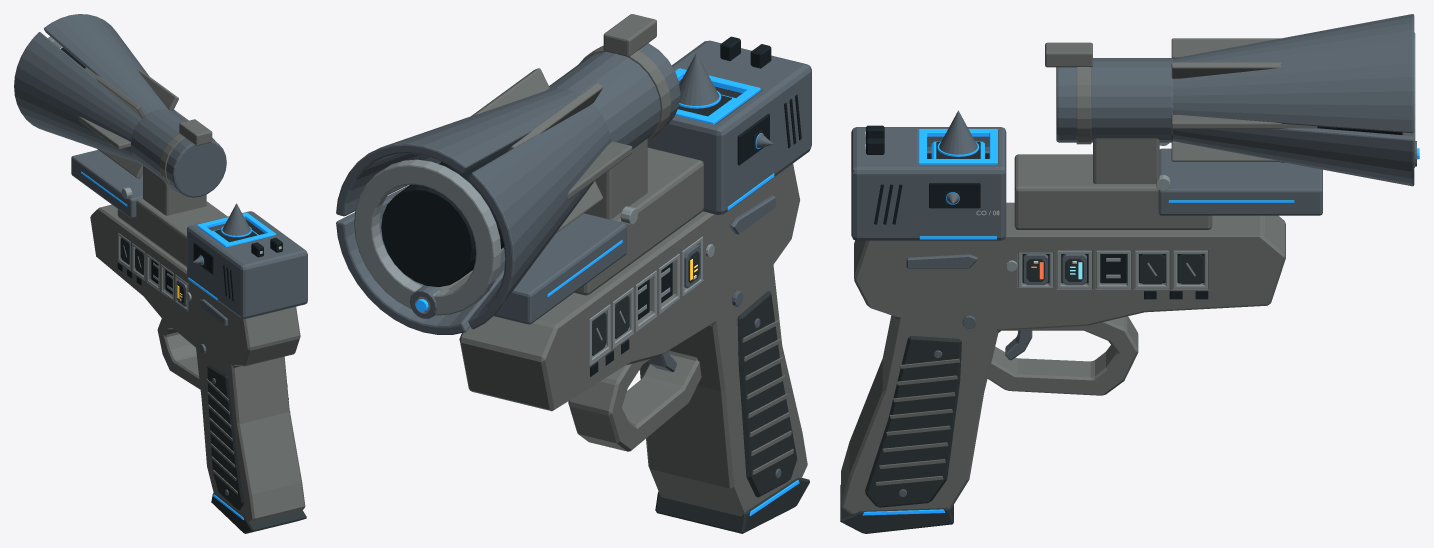
Rendered from ConeFlameProjector.glb.
3 renders of one model, left to right at view 1: azimuth 30°, elevation 25°; view 2: azimuth 150°, elevation 25°; view 3: azimuth 270°, elevation 25°, orthographic. The views are drawn at different scales.
Parts seen in each view (by area): view 1: Frame | continuous receiver and swept grip, Cone | tapered shield 1, MultiWeapon | shared rear receiver, Cone | mixing chamber, Cone | tapered shield 0, Cone | receiver bridge, Grip | contoured panel -1, Cone | heat shield saddle, Frame | open shaped trigger guard, Cone | supported riser, Grip | fitted heel plate, Dock | fitted rim (+7 smaller); view 2: Frame | continuous receiver and swept grip, MultiWeapon | shared rear receiver, Cone | tapered shield 1, Cone | hot mouth, Cone | tapered shield 0, Cone | black inner diffuser, Frame | open shaped trigger guard, Grip | contoured panel -1, Cone | heat shield saddle, Cone | mixing chamber, Cone | receiver bridge, Cone | tapered shield 2 (+13 smaller); view 3: Frame | continuous receiver and swept grip, Cone | tapered shield 0, MultiWeapon | shared rear receiver, Cone | receiver bridge, Grip | contoured panel 1, Cone | heat shield saddle, Cone | tapered shield 2, Cone | mixing chamber, Frame | open shaped trigger guard, Cone | supported riser, Grip | fitted heel plate, Cone | heat fin 0 (+12 smaller).
Boxes of the visible parts, x1,y1,x2,y2 form: Frame | continuous receiver and swept grip: [90, 204, 305, 523]; Cone | tapered shield 1: [14, 32, 142, 162]; MultiWeapon | shared rear receiver: [187, 211, 307, 318]; Cone | mixing chamber: [131, 109, 226, 197]; Cone | tapered shield 0: [44, 14, 176, 115]; Cone | receiver bridge: [117, 198, 227, 267]; Grip | contoured panel -1: [207, 364, 244, 510]; Cone | heat shield saddle: [71, 150, 142, 218]; Frame | open shaped trigger guard: [157, 318, 200, 389]; Cone | supported riser: [143, 165, 206, 215]; Grip | fitted heel plate: [211, 492, 306, 533]; Dock | fitted rim: [197, 212, 276, 247]; Frame | continuous receiver and swept grip: [459, 164, 807, 516]; MultiWeapon | shared rear receiver: [647, 40, 811, 214]; Cone | tapered shield 1: [468, 103, 611, 329]; Cone | hot mouth: [354, 159, 501, 315]; Cone | tapered shield 0: [336, 88, 579, 216]; Cone | black inner diffuser: [381, 148, 508, 287]; Frame | open shaped trigger guard: [568, 351, 701, 451]; Grip | contoured panel -1: [737, 291, 797, 497]; Cone | heat shield saddle: [494, 213, 626, 324]; Cone | mixing chamber: [549, 43, 680, 149]; Cone | receiver bridge: [574, 147, 703, 295]; Cone | tapered shield 2: [336, 185, 505, 334]; Frame | continuous receiver and swept grip: [841, 202, 1285, 513]; Cone | tapered shield 0: [1172, 14, 1414, 133]; MultiWeapon | shared rear receiver: [851, 127, 1006, 240]; Cone | receiver bridge: [1014, 154, 1212, 229]; Grip | contoured panel 1: [865, 336, 961, 507]; Cone | heat shield saddle: [1158, 148, 1322, 215]; Cone | tapered shield 2: [1172, 128, 1414, 186]; Cone | mixing chamber: [1056, 58, 1173, 142]; Frame | open shaped trigger guard: [987, 316, 1138, 395]; Cone | supported riser: [1093, 138, 1159, 183]; Grip | fitted heel plate: [840, 485, 953, 533]; Cone | heat fin 0: [1171, 115, 1317, 128].
Bounding box in the file's own units: 0.0935 × 0.2957 × 0.314.
